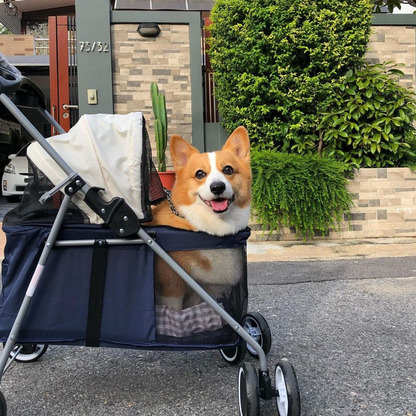Corgi: (154, 122, 265, 292)
